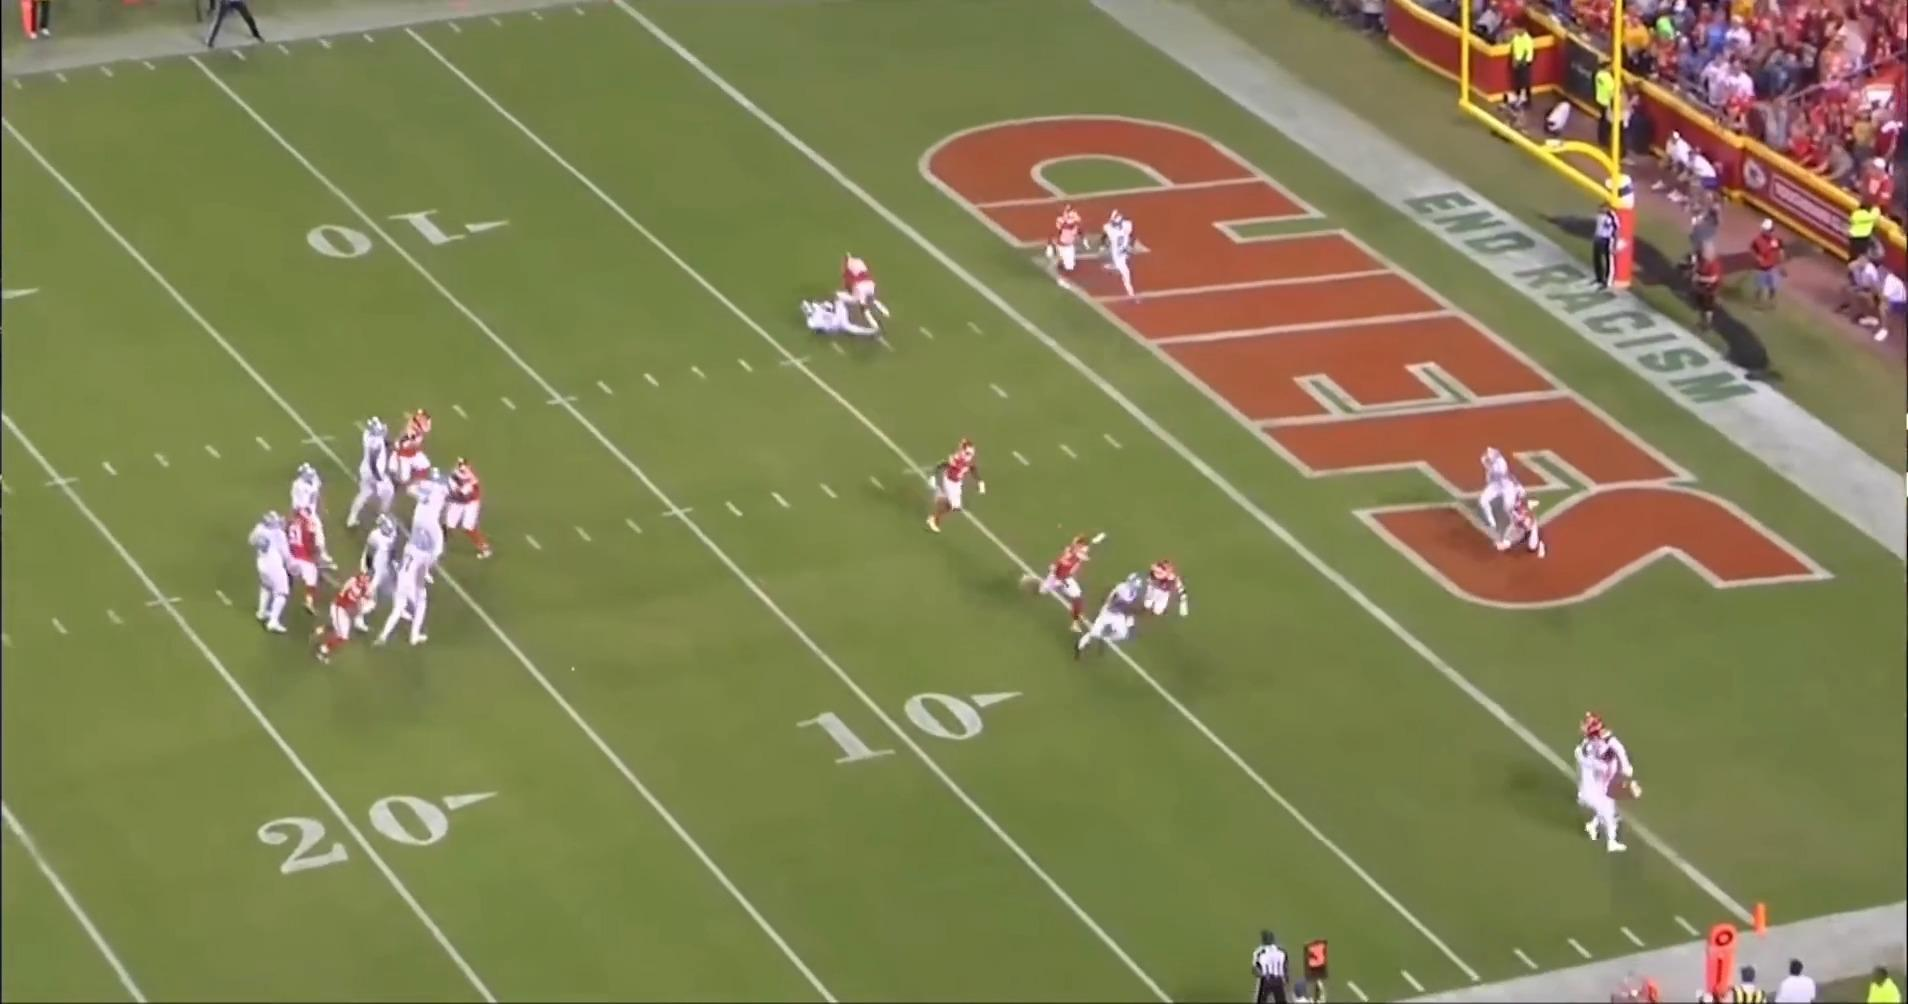defense: (1026, 535, 1104, 633), (1577, 706, 1649, 807), (312, 573, 377, 670), (934, 441, 994, 540), (437, 457, 487, 569), (842, 252, 893, 337), (387, 414, 434, 501), (284, 502, 323, 603), (1502, 486, 1550, 560), (1044, 203, 1089, 280), (1145, 560, 1196, 626)
oline: (228, 512, 294, 641), (382, 536, 445, 653), (404, 472, 463, 595), (344, 410, 401, 530), (362, 515, 413, 612)
qb: (281, 459, 334, 578)
ref: (1237, 923, 1293, 1001), (1574, 194, 1615, 298), (193, 0, 262, 47)
skill: (1561, 735, 1630, 856), (1078, 569, 1158, 658), (1099, 204, 1152, 296), (795, 294, 880, 341), (1481, 443, 1519, 528)
